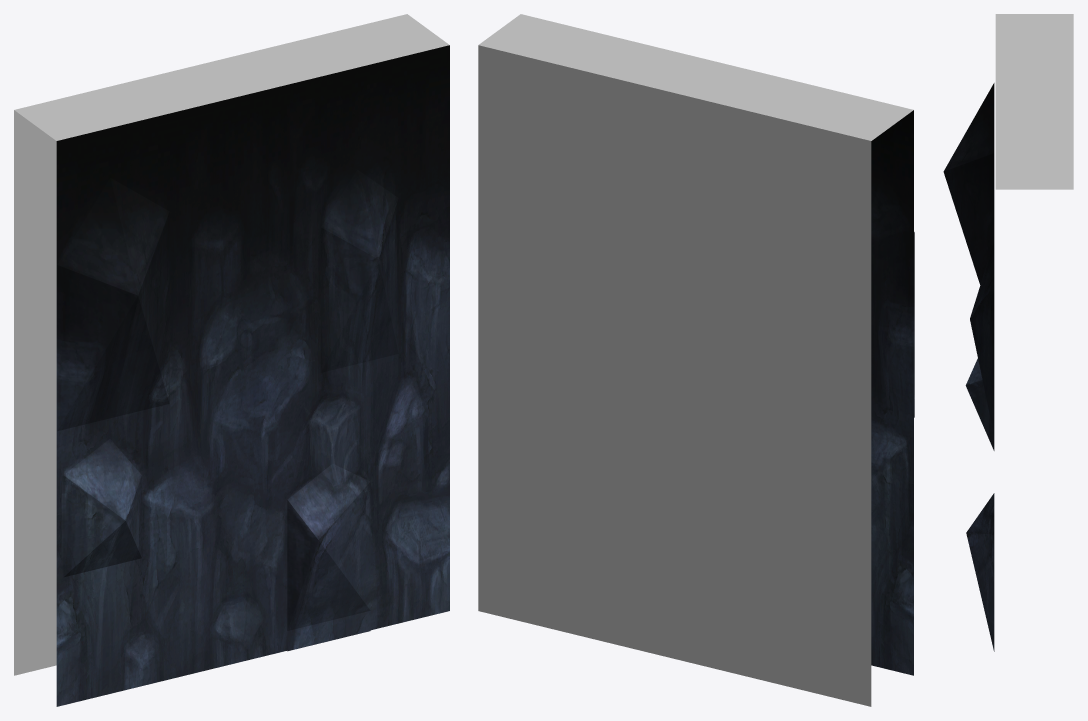
The model's file is mine_fade_straight_01.fbx.
3 views of the same model, side by side, from view 1: azimuth 30°, elevation 25°; view 2: azimuth 150°, elevation 25°; view 3: azimuth 270°, elevation 25° (orthographic). The views are drawn at different scales.
Visible parts, largest first — view 1: obj1.020; view 2: obj1.020; view 3: obj1.020.
Part boxes in pixels (x1,y1,x2,y2): obj1.020: (14,14,449,706); obj1.020: (478,14,914,706); obj1.020: (943,14,1073,651).
Bounding box in the file's own units: 4 × 5.5 × 1.25.
